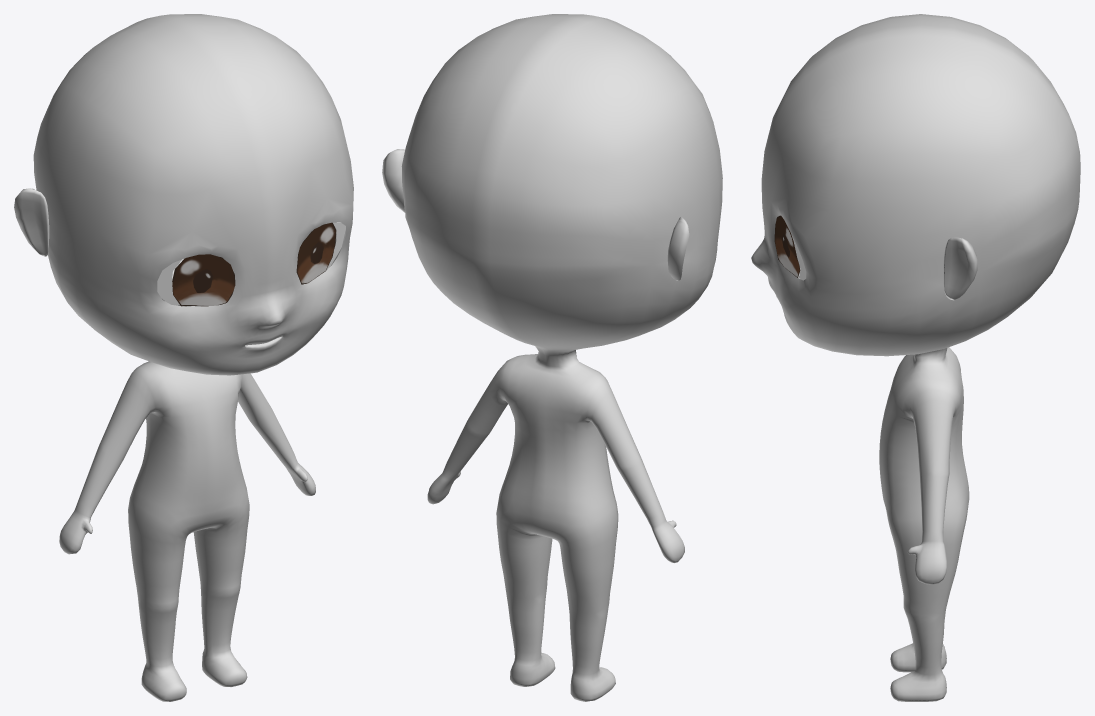
Rendered from sample paige w texture.fbx.
The picture shows the model from 3 angles, left to right: view 1: azimuth 30°, elevation 25°; view 2: azimuth 150°, elevation 25°; view 3: azimuth 270°, elevation 25°; orthographic projection.
Visible parts, largest first — view 1: main_body, right_eye, left_eye; view 2: main_body; view 3: main_body, left_eye.
Boxes of the visible parts, x1=… form: main_body: x1=14, y1=14, x2=353, y2=701; right_eye: x1=157, y1=254, x2=235, y2=306; left_eye: x1=296, y1=222, x2=345, y2=284; main_body: x1=382, y1=14, x2=722, y2=701; main_body: x1=751, y1=14, x2=1080, y2=701; left_eye: x1=774, y1=215, x2=806, y2=280.
Bounding box in the file's own units: 2.8 × 5.75 × 2.63.
